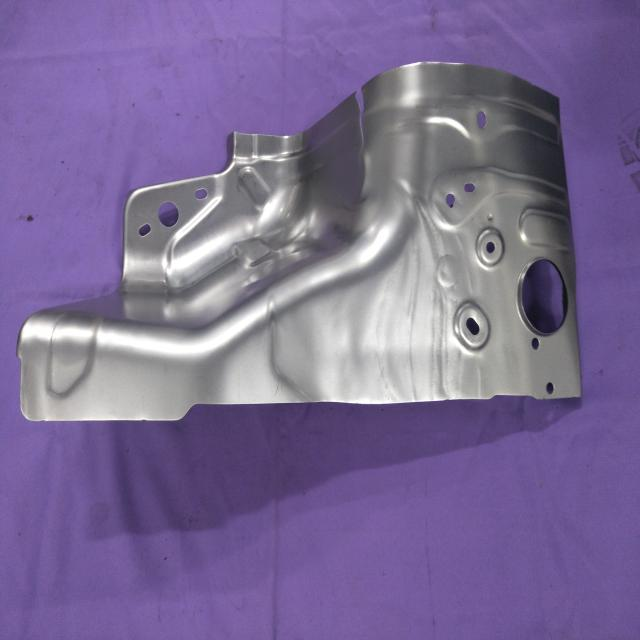Defect: (341, 83, 380, 150)
